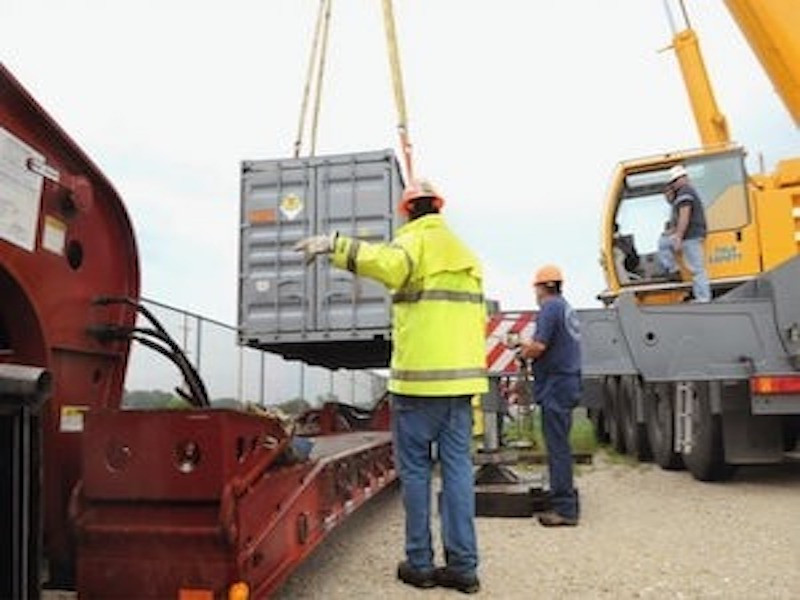safety: (394, 174, 447, 213), (530, 264, 569, 288)
vest: (380, 215, 489, 401)
